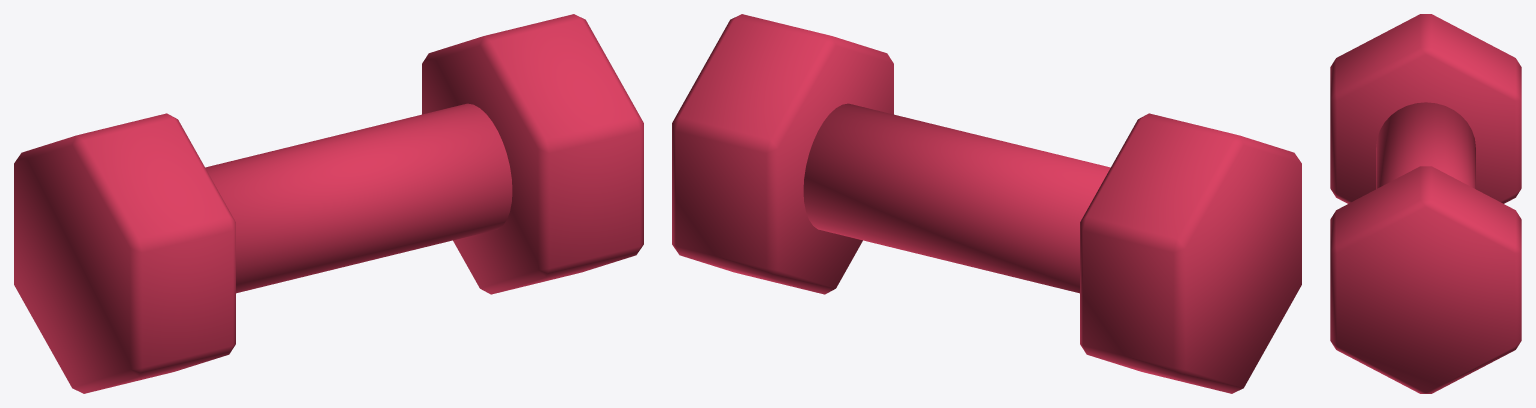
3 renders of one model, left to right at view 1: azimuth 30°, elevation 25°; view 2: azimuth 150°, elevation 25°; view 3: azimuth 270°, elevation 25°, orthographic. The views are drawn at different scales.
Parts seen in each view (by area): view 1: dumbbell; view 2: dumbbell; view 3: dumbbell.
Part boxes in pixels (box(x1,y1,x2,y2)): dumbbell: box(14, 14, 643, 393); dumbbell: box(672, 14, 1301, 393); dumbbell: box(1330, 14, 1521, 393).
Bounding box in the file's own units: 8.43 × 3.97 × 3.54.
